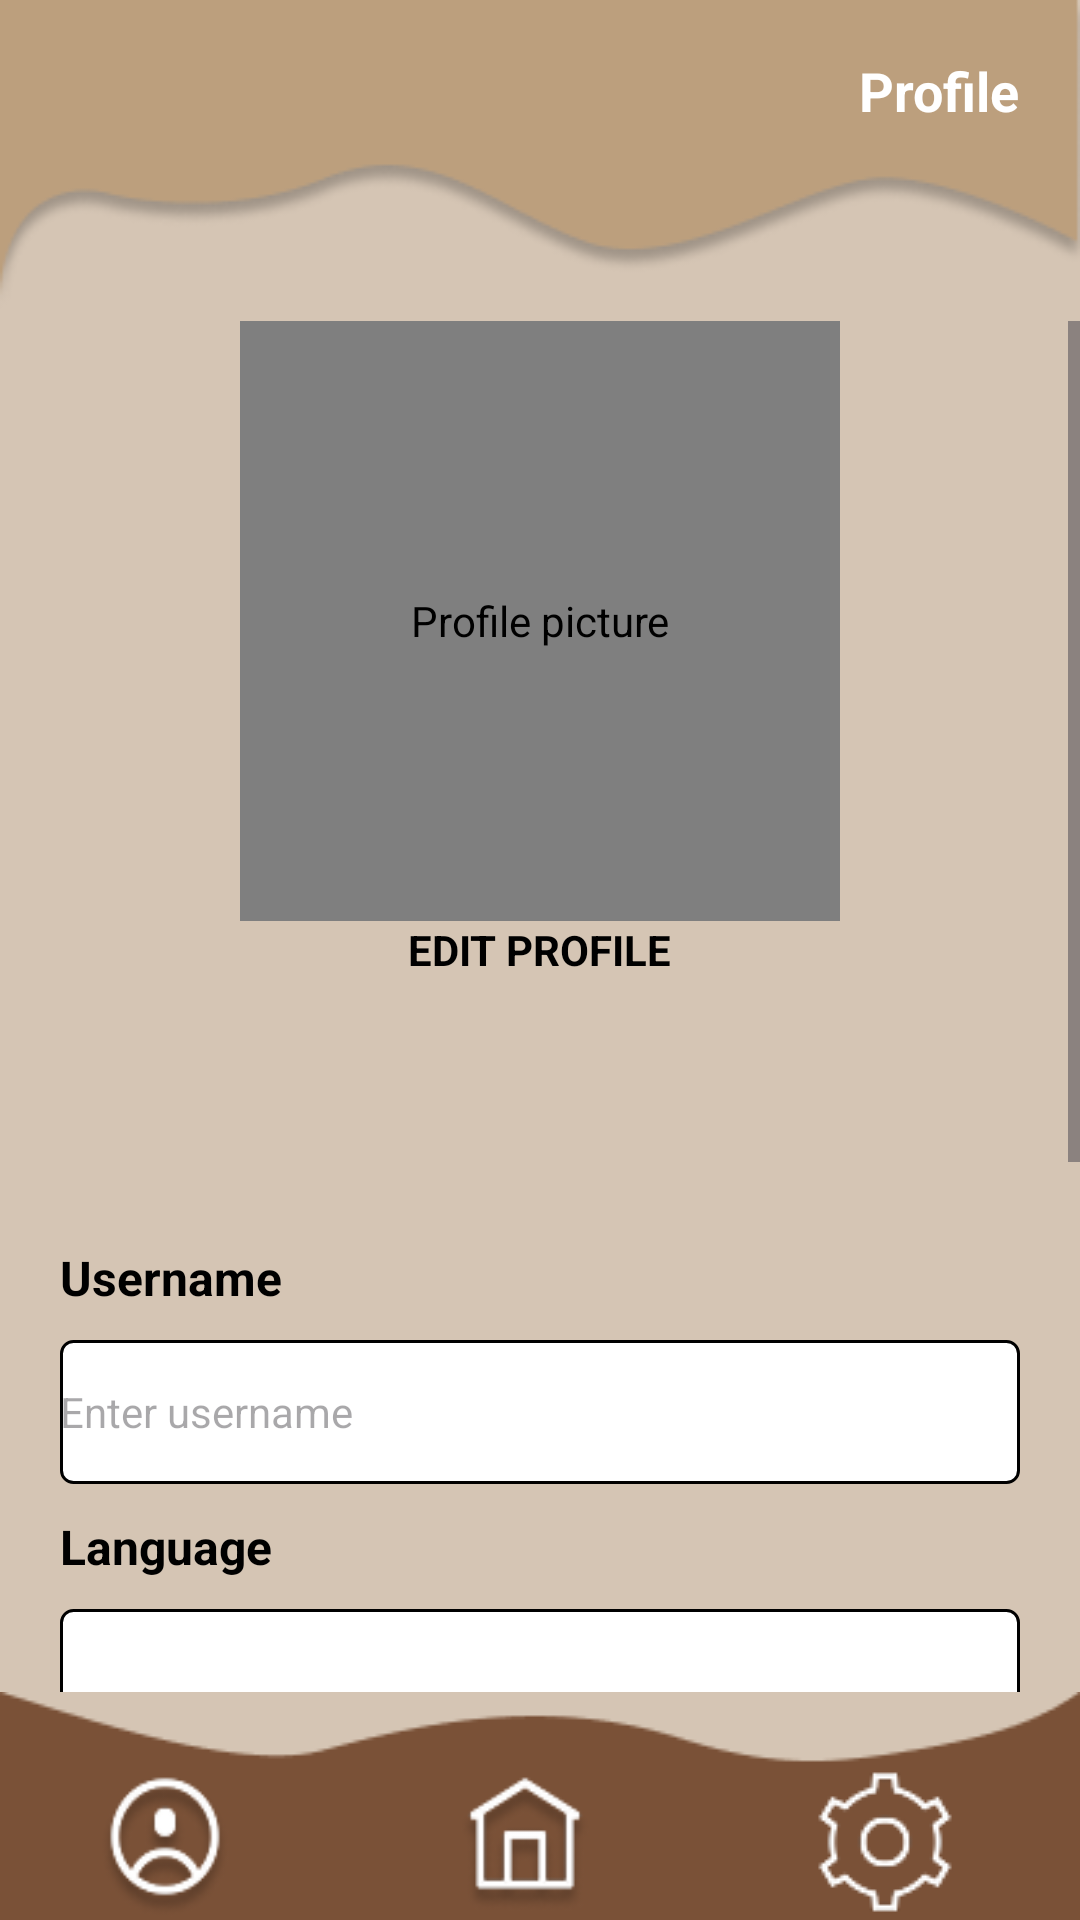

Where to tap for icons on this 1080*1920 app screen, as (x,y):
Home navigation button: (525,1833)
Profile navigation button: (165,1836)
Settings navigation button: (885,1842)
